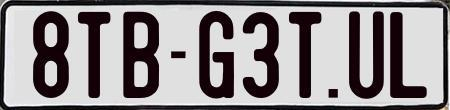3: (243, 11, 279, 98)
8: (30, 9, 70, 100)
B: (120, 9, 157, 98)
G: (199, 10, 234, 104)
L: (387, 12, 425, 102)
T: (287, 10, 325, 102), (77, 12, 111, 100)
U: (349, 10, 385, 102)
